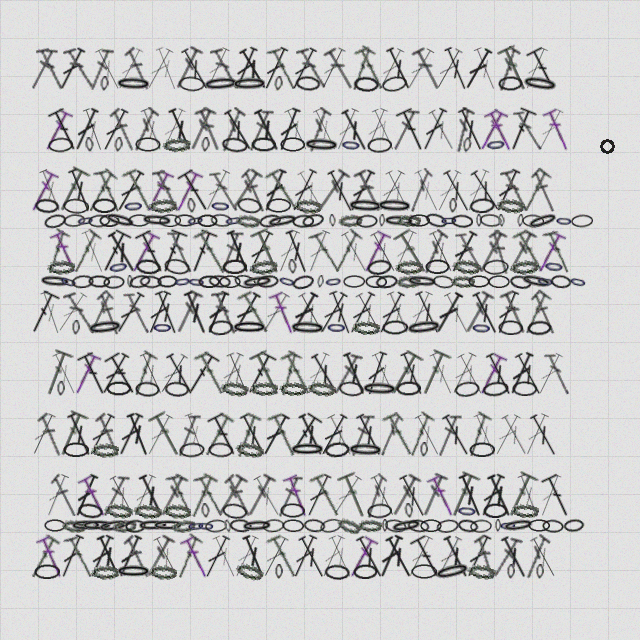chain: (433, 560, 472, 583), (521, 74, 559, 94), (526, 210, 560, 232), (86, 318, 124, 337), (405, 318, 443, 337), (103, 210, 137, 231), (202, 75, 240, 93), (234, 561, 265, 582), (519, 272, 553, 291), (266, 212, 299, 230), (97, 517, 130, 535), (390, 517, 423, 535), (115, 76, 152, 92), (231, 76, 268, 92), (303, 137, 340, 153), (347, 198, 384, 214), (376, 198, 413, 214), (289, 320, 326, 336), (361, 381, 398, 397), (347, 442, 384, 458), (502, 517, 535, 534), (231, 320, 268, 335), (289, 442, 326, 457), (115, 564, 152, 579), (235, 440, 264, 459), (381, 74, 408, 94), (163, 257, 191, 276), (241, 274, 274, 290), (249, 258, 278, 276), (510, 258, 539, 276), (336, 516, 362, 536), (236, 196, 263, 215), (162, 136, 191, 153), (148, 197, 177, 214), (496, 197, 525, 214), (452, 258, 481, 275), (220, 380, 249, 397), (307, 380, 336, 397), (104, 502, 133, 519), (467, 563, 496, 580), (221, 136, 248, 154), (366, 258, 393, 276), (482, 380, 509, 398), (221, 502, 248, 520), (141, 213, 173, 228), (39, 274, 71, 289), (406, 274, 438, 289), (338, 380, 364, 398), (454, 380, 480, 398), (77, 502, 103, 520), (133, 503, 162, 519), (424, 211, 448, 230), (294, 198, 322, 214), (383, 214, 415, 228), (47, 259, 75, 275), (395, 259, 423, 275), (91, 442, 119, 458), (163, 503, 191, 519), (241, 519, 273, 533), (91, 564, 119, 580), (149, 564, 177, 580), (295, 75, 321, 92), (469, 197, 495, 214), (135, 258, 161, 275), (208, 319, 234, 336), (324, 441, 350, 458), (178, 76, 205, 92), (43, 212, 67, 230), (291, 273, 315, 291), (352, 320, 380, 335), (250, 381, 278, 396), (279, 381, 307, 396), (511, 503, 539, 518), (353, 76, 379, 92), (34, 198, 60, 214), (63, 198, 89, 214), (483, 259, 509, 275), (164, 381, 190, 397), (179, 442, 205, 458), (70, 519, 102, 532), (81, 519, 113, 532), (137, 519, 169, 532), (152, 519, 184, 532), (324, 564, 350, 580), (107, 258, 130, 276), (301, 212, 325, 229), (128, 273, 152, 290), (233, 273, 257, 290), (319, 517, 343, 534), (48, 137, 73, 153), (367, 137, 392, 153), (527, 320, 552, 336), (135, 381, 160, 397), (208, 442, 233, 458), (367, 503, 392, 519), (112, 518, 137, 534), (171, 518, 196, 534), (135, 137, 161, 152), (382, 320, 408, 335), (63, 442, 89, 457), (469, 442, 495, 457), (34, 564, 60, 579), (411, 564, 437, 579), (258, 213, 282, 229), (58, 273, 79, 291), (498, 76, 523, 91), (251, 137, 276, 152), (280, 137, 305, 152), (92, 198, 117, 213), (266, 198, 291, 213), (338, 213, 363, 228), (222, 259, 247, 274), (425, 259, 450, 274), (396, 274, 421, 289), (498, 320, 523, 335), (106, 381, 131, 396), (396, 381, 421, 396), (512, 381, 537, 396), (280, 503, 305, 518), (483, 503, 508, 518), (353, 564, 378, 579), (485, 136, 507, 153), (543, 258, 565, 275), (432, 274, 455, 290), (509, 274, 532, 290), (384, 518, 407, 534), (407, 518, 430, 534), (436, 518, 459, 534), (340, 137, 362, 153), (456, 503, 478, 519), (457, 518, 479, 534), (63, 213, 86, 228), (210, 213, 233, 228), (479, 213, 502, 228), (71, 274, 94, 289), (208, 274, 231, 289), (256, 274, 279, 289), (375, 274, 398, 289), (229, 518, 252, 533), (262, 518, 285, 533), (303, 518, 326, 533), (277, 273, 297, 290), (123, 198, 144, 214), (210, 198, 231, 214), (236, 214, 260, 228), (471, 320, 492, 336), (62, 519, 86, 533), (550, 274, 572, 289), (563, 518, 585, 533), (139, 275, 162, 289), (568, 274, 588, 290), (152, 320, 173, 335), (326, 320, 347, 335), (397, 214, 421, 227), (451, 275, 475, 288), (358, 519, 382, 532), (88, 214, 110, 228), (292, 214, 314, 228), (356, 214, 378, 228), (451, 214, 473, 228), (522, 214, 544, 228), (571, 214, 593, 228), (103, 275, 125, 289), (205, 519, 227, 533), (470, 519, 492, 533), (542, 519, 564, 533), (125, 519, 146, 533), (128, 214, 150, 227), (159, 214, 181, 227), (174, 214, 196, 227), (408, 214, 430, 227), (88, 275, 110, 288), (198, 275, 220, 288), (219, 275, 241, 288), (343, 275, 365, 288), (365, 275, 387, 288), (468, 275, 490, 288), (488, 275, 510, 288), (44, 519, 66, 532), (282, 519, 304, 532), (420, 519, 442, 532), (528, 519, 550, 532), (76, 213, 95, 228), (186, 213, 205, 228), (224, 213, 243, 228), (173, 274, 192, 289), (324, 274, 343, 289), (536, 274, 555, 289), (99, 214, 120, 227), (197, 214, 218, 227), (157, 275, 178, 288), (187, 275, 206, 289), (555, 214, 573, 228), (187, 519, 205, 533), (197, 519, 215, 533), (440, 214, 458, 227), (499, 519, 517, 532), (462, 137, 472, 153), (404, 503, 414, 518), (100, 76, 109, 91), (274, 76, 283, 91), (85, 137, 94, 152), (114, 137, 123, 152), (201, 137, 210, 152), (187, 198, 196, 213), (288, 259, 297, 274), (201, 503, 210, 518), (449, 198, 457, 213), (72, 320, 80, 335), (57, 381, 65, 396), (420, 442, 428, 457), (275, 564, 283, 579), (507, 564, 515, 579), (536, 564, 544, 579), (224, 519, 232, 533), (329, 214, 336, 227), (498, 214, 505, 227), (517, 214, 524, 227), (317, 275, 324, 288), (379, 214, 385, 227), (476, 214, 482, 227), (127, 275, 133, 288), (382, 519, 388, 532), (495, 519, 501, 532)
double: (393, 228, 433, 276), (284, 411, 324, 459), (176, 167, 215, 215), (103, 350, 142, 398), (182, 350, 221, 398), (385, 350, 424, 398), (53, 166, 91, 215), (148, 410, 186, 459), (249, 349, 286, 398), (502, 471, 539, 520), (525, 45, 562, 93), (96, 228, 133, 276), (241, 350, 278, 398), (206, 411, 243, 459), (409, 533, 446, 581), (497, 44, 533, 93), (250, 227, 286, 276), (416, 349, 452, 398), (445, 471, 481, 520), (264, 167, 301, 214), (198, 411, 235, 458), (24, 533, 61, 580), (47, 106, 83, 154), (134, 228, 170, 276), (25, 289, 61, 337), (76, 350, 112, 398), (540, 472, 576, 520), (54, 410, 89, 459), (337, 471, 372, 520), (192, 228, 228, 275), (511, 228, 547, 275), (236, 289, 272, 336), (395, 106, 430, 154), (40, 349, 74, 398), (227, 168, 264, 213), (314, 168, 351, 213), (53, 290, 90, 335), (328, 473, 365, 518), (83, 168, 119, 214), (308, 229, 344, 275), (257, 290, 293, 336), (155, 351, 191, 397), (213, 473, 249, 519), (518, 167, 553, 214), (68, 228, 103, 275), (329, 228, 364, 275), (279, 350, 314, 397), (381, 411, 416, 458), (184, 472, 219, 519), (308, 472, 343, 519), (265, 533, 300, 580), (504, 106, 538, 154), (185, 228, 219, 276), (468, 168, 504, 213), (178, 46, 213, 92), (236, 46, 271, 92), (323, 46, 358, 92), (402, 46, 437, 92), (431, 46, 466, 92), (460, 46, 495, 92), (221, 107, 256, 153), (112, 168, 147, 214), (294, 168, 329, 214), (105, 229, 140, 275), (112, 290, 147, 336), (228, 290, 263, 336), (315, 290, 350, 336), (352, 290, 387, 336), (431, 290, 466, 336), (97, 351, 132, 397), (163, 351, 198, 397), (308, 351, 343, 397), (439, 412, 474, 458), (250, 473, 285, 519), (266, 45, 300, 92), (353, 45, 387, 92), (121, 167, 155, 214), (519, 289, 553, 336), (193, 350, 227, 397), (193, 472, 227, 519), (63, 533, 97, 580), (156, 228, 189, 276), (266, 411, 299, 459), (142, 46, 176, 92), (411, 46, 445, 92), (40, 107, 74, 153), (338, 107, 372, 153), (425, 107, 459, 153), (475, 107, 509, 153), (533, 107, 567, 153), (26, 168, 60, 214), (324, 168, 358, 214), (374, 168, 408, 214), (440, 168, 474, 214), (127, 229, 161, 275), (338, 229, 372, 275), (367, 229, 401, 275), (446, 229, 480, 275), (504, 229, 538, 275), (533, 229, 567, 275), (287, 290, 321, 336), (295, 290, 329, 336), (374, 290, 408, 336), (440, 290, 474, 336), (461, 290, 495, 336), (454, 351, 488, 397), (512, 351, 546, 397), (84, 412, 118, 458), (142, 412, 176, 458), (258, 412, 292, 458), (316, 412, 350, 458), (411, 412, 445, 458), (490, 412, 524, 458), (498, 412, 532, 458), (527, 412, 561, 458), (106, 473, 140, 519), (243, 473, 277, 519), (388, 473, 422, 519), (396, 473, 430, 519), (142, 534, 176, 580), (150, 534, 184, 580), (258, 534, 292, 580), (295, 534, 329, 580), (345, 534, 379, 580), (353, 534, 387, 580), (382, 534, 416, 580), (527, 534, 561, 580), (171, 45, 204, 92), (316, 45, 349, 92), (309, 106, 342, 153), (200, 167, 233, 214), (287, 167, 320, 214), (411, 167, 444, 214), (359, 228, 392, 275), (295, 411, 328, 458), (367, 472, 400, 519), (403, 533, 436, 580), (440, 533, 473, 580), (230, 411, 262, 459), (55, 46, 88, 92), (92, 46, 125, 92), (113, 46, 146, 92), (287, 46, 320, 92), (374, 46, 407, 92), (98, 107, 131, 153), (251, 107, 284, 153), (483, 107, 516, 153), (142, 168, 175, 214), (171, 168, 204, 214), (345, 168, 378, 214), (353, 168, 386, 214), (382, 168, 415, 214), (432, 168, 465, 214), (243, 229, 276, 275), (475, 229, 508, 275), (345, 290, 378, 336), (469, 290, 502, 336), (475, 351, 508, 397), (483, 351, 516, 397), (533, 351, 566, 397), (237, 412, 270, 458), (324, 412, 357, 458), (353, 412, 386, 458), (77, 473, 110, 519), (156, 473, 189, 519), (179, 534, 212, 580), (200, 534, 233, 580), (432, 534, 465, 580), (498, 534, 531, 580), (201, 45, 233, 92), (259, 45, 291, 92), (383, 45, 415, 92), (70, 106, 102, 153), (157, 106, 189, 153), (281, 106, 313, 153), (368, 106, 400, 153), (418, 106, 450, 153), (455, 106, 487, 153), (491, 167, 523, 214), (49, 228, 81, 275), (426, 228, 458, 275), (542, 228, 574, 275), (172, 289, 204, 336), (404, 289, 436, 336), (412, 289, 444, 336), (499, 289, 531, 336), (49, 350, 81, 397), (70, 350, 102, 397), (136, 350, 168, 397), (215, 350, 247, 397), (368, 350, 400, 397), (426, 350, 458, 397), (447, 350, 479, 397), (505, 350, 537, 397), (27, 411, 59, 458), (64, 411, 96, 458), (114, 411, 146, 458), (404, 411, 436, 458), (520, 411, 552, 458), (136, 472, 168, 519), (165, 472, 197, 519), (302, 472, 334, 519), (426, 472, 458, 519), (476, 472, 508, 519), (484, 472, 516, 519), (35, 533, 67, 580), (85, 533, 117, 580), (93, 533, 125, 580), (172, 533, 204, 580), (209, 533, 241, 580), (230, 533, 262, 580), (288, 533, 320, 580), (325, 533, 357, 580), (462, 533, 494, 580), (63, 46, 96, 91), (63, 290, 96, 335), (230, 45, 261, 92), (346, 45, 377, 92), (441, 45, 472, 92), (470, 45, 501, 92), (520, 45, 551, 92), (165, 106, 196, 153), (186, 106, 217, 153), (194, 106, 225, 153), (331, 106, 362, 153), (542, 106, 573, 153), (93, 167, 124, 214), (259, 167, 290, 214), (462, 167, 493, 214), (78, 228, 109, 275), (223, 228, 254, 275), (273, 228, 304, 275), (389, 228, 420, 275), (143, 289, 174, 336), (383, 289, 414, 336), (128, 350, 159, 397), (223, 350, 254, 397), (302, 350, 333, 397), (397, 350, 428, 397), (470, 411, 501, 458), (41, 472, 72, 519), (70, 472, 101, 519), (128, 472, 159, 519), (418, 472, 449, 519), (455, 472, 486, 519), (56, 533, 87, 580), (114, 533, 145, 580), (317, 533, 348, 580), (375, 533, 406, 580), (490, 535, 523, 579), (296, 46, 328, 91), (128, 107, 160, 152), (331, 351, 363, 396), (418, 229, 449, 275), (520, 534, 551, 580), (152, 45, 182, 92), (137, 106, 167, 153), (361, 106, 391, 153), (36, 167, 66, 214), (65, 167, 95, 214), (282, 228, 312, 275), (303, 228, 333, 275), (152, 289, 182, 336), (181, 289, 211, 336), (202, 289, 232, 336), (268, 289, 298, 336), (326, 289, 356, 336), (492, 289, 522, 336), (340, 350, 370, 397), (123, 411, 153, 458), (463, 411, 493, 458), (282, 472, 312, 519), (514, 472, 544, 519), (535, 472, 565, 519), (239, 533, 269, 580), (49, 473, 80, 518), (223, 473, 254, 518), (122, 534, 153, 579), (210, 46, 240, 92), (216, 107, 246, 153), (500, 168, 530, 214), (513, 108, 544, 152), (209, 169, 240, 213), (455, 230, 486, 274), (79, 106, 108, 153), (274, 106, 303, 153), (42, 228, 71, 275), (181, 411, 210, 458), (28, 46, 58, 91), (123, 46, 153, 91), (108, 107, 138, 152), (390, 107, 420, 152), (239, 168, 269, 213), (529, 168, 559, 213), (529, 290, 559, 335), (100, 473, 130, 518), (36, 46, 65, 92), (303, 107, 332, 153), (152, 168, 181, 214), (37, 289, 65, 336), (275, 350, 303, 397), (362, 350, 390, 397), (86, 290, 115, 335), (123, 290, 152, 335), (36, 412, 65, 457), (94, 412, 123, 457), (376, 412, 405, 457), (493, 46, 521, 92), (246, 107, 274, 153), (95, 290, 123, 336), (275, 473, 303, 519), (406, 168, 434, 213), (544, 351, 572, 396), (87, 46, 114, 92), (217, 229, 244, 275), (211, 290, 238, 336), (348, 412, 375, 458), (435, 412, 462, 458), (167, 229, 194, 274), (175, 412, 201, 458), (450, 107, 475, 153), (363, 473, 388, 519), (473, 534, 498, 580), (488, 229, 512, 275)
noise: (598, 137, 616, 155)
